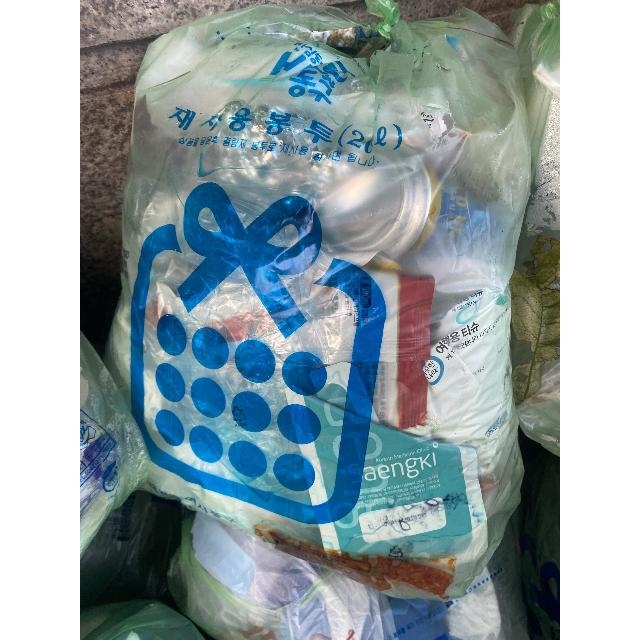general_trashbag: (106, 6, 530, 600)
